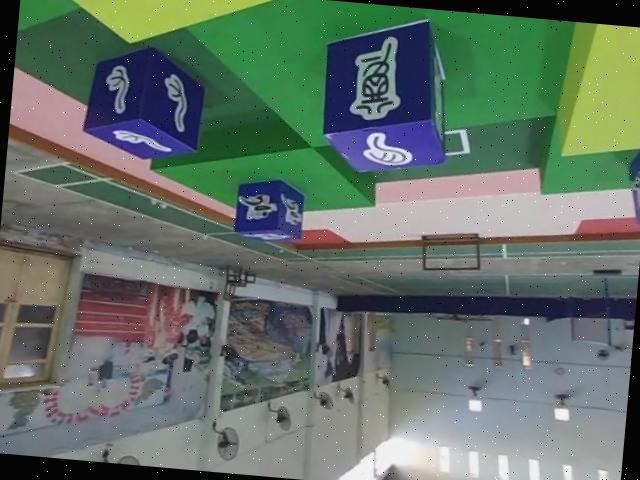R1 Blue: (234, 173, 310, 242), (623, 133, 640, 230)
R2 Fake Blue: (317, 6, 459, 178)
R2 Real Blue: (81, 39, 210, 163)
